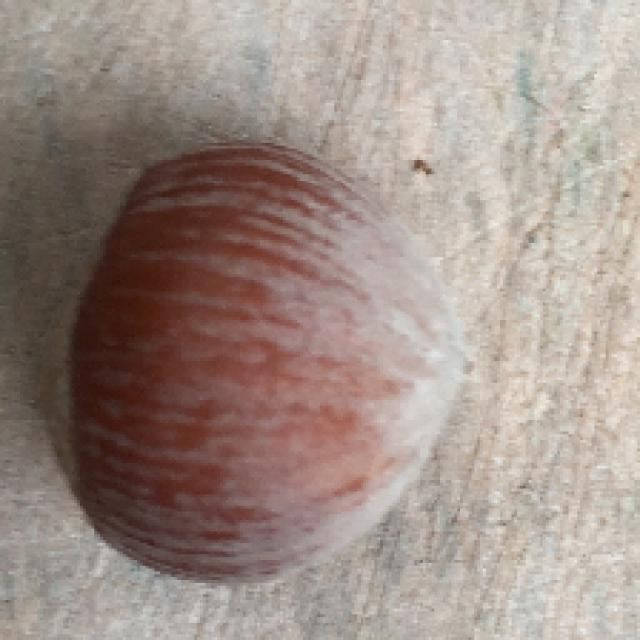qualityHazelnut: (62, 132, 477, 580)
